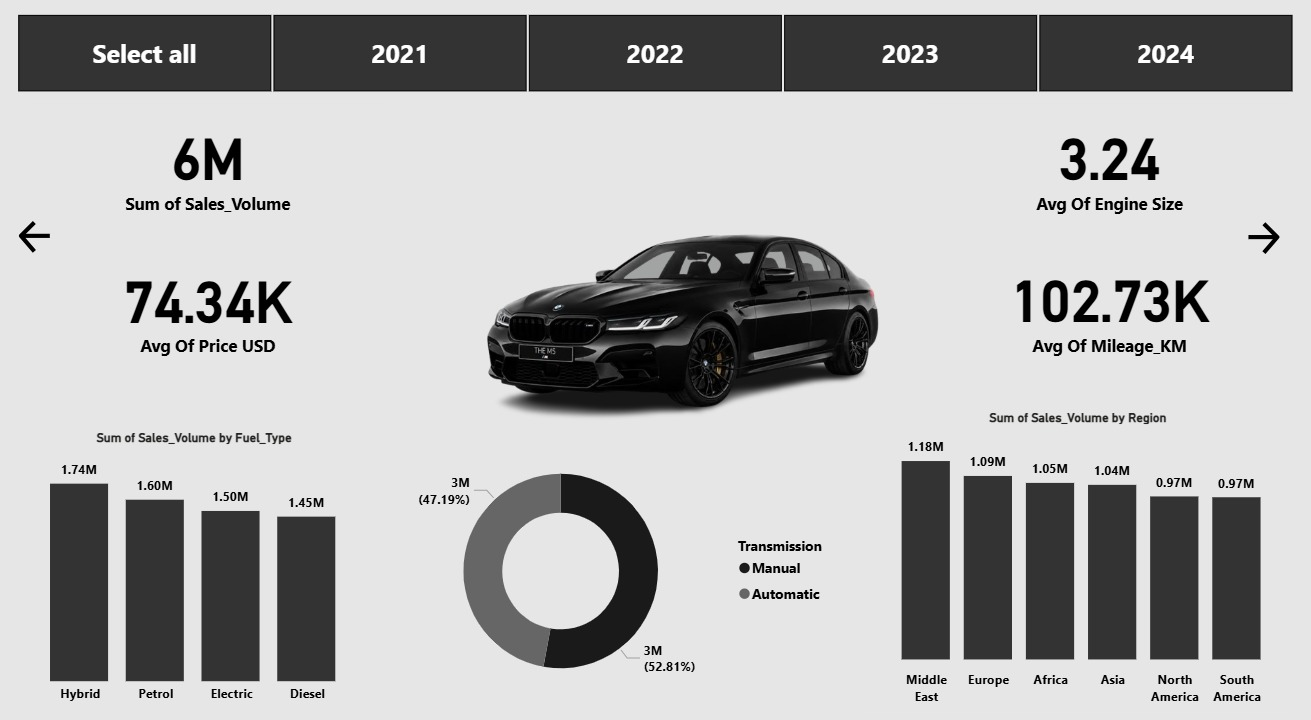

What the dashboard file says about the page in this screenshot:
{"tool":"powerbi","page":{"name":"M5","canvas":[1280,720],"ordinal":1},"visuals":[{"type":"image","box":[456,109.8,419.8,419.8],"z":0},{"type":"slicer","fields":{"Values":["BMW_Car_Sales_Classification.Year"]},"box":[0,21.7,1280,88.1],"z":1000},{"type":"donutChart","fields":{"Category":["BMW_Car_Sales_Classification.Transmission"],"Y":["Sum(BMW_Car_Sales_Classification.Sales_Volume)"]},"box":[374,429.5,456,272.7],"z":2000},{"type":"card","fields":{"Values":["Sum(BMW_Car_Sales_Classification.Sales_Volume)"]},"box":[36.2,114.6,346.2,115.8],"z":3000},{"type":"card","fields":{"Values":["BMW_Car_Sales_Classification.Avg Of Price"]},"box":[36.2,250.9,346.2,118.2],"z":4000},{"type":"card","fields":{"Values":["BMW_Car_Sales_Classification.Avg Of Engine Size"]},"box":[903.6,114.6,352.3,115.8],"z":5000},{"type":"card","fields":{"Values":["BMW_Car_Sales_Classification.Avg Of Mileage_KM"]},"box":[903.6,243.7,352.3,131.5],"z":6000},{"type":"columnChart","fields":{"Category":["BMW_Car_Sales_Classification.Region"],"Y":["Sum(BMW_Car_Sales_Classification.Sales_Volume)"]},"box":[842.1,410.2,413.8,292],"z":7000},{"type":"columnChart","fields":{"Category":["BMW_Car_Sales_Classification.Fuel_Type"],"Y":["Sum(BMW_Car_Sales_Classification.Sales_Volume)"]},"box":[22.9,429.5,346.2,272.7],"z":8000},{"type":"actionButton","box":[22.9,223.2,100.1,39.8],"z":9000},{"type":"actionButton","box":[1207.6,224.4,48.3,39.8],"z":10000}]}

Visuals, with their boxes in screenshot pixels (x1, y1, x2, y2), scaled from the page's 1280x720 canvas onto the 1311x720 screenshot:
image: region(467, 110, 897, 530)
slicer - BMW_Car_Sales_Classification.Year: region(0, 22, 1310, 110)
donutChart - BMW_Car_Sales_Classification.Transmission x Sum(BMW_Car_Sales_Classification.Sales_Volume): region(383, 430, 850, 702)
card - Sum(BMW_Car_Sales_Classification.Sales_Volume): region(37, 115, 392, 230)
card - BMW_Car_Sales_Classification.Avg Of Price: region(37, 251, 392, 369)
card - BMW_Car_Sales_Classification.Avg Of Engine Size: region(925, 115, 1286, 230)
card - BMW_Car_Sales_Classification.Avg Of Mileage_KM: region(925, 244, 1286, 375)
columnChart - BMW_Car_Sales_Classification.Region x Sum(BMW_Car_Sales_Classification.Sales_Volume): region(862, 410, 1286, 702)
columnChart - BMW_Car_Sales_Classification.Fuel_Type x Sum(BMW_Car_Sales_Classification.Sales_Volume): region(23, 430, 378, 702)
actionButton: region(23, 223, 126, 263)
actionButton: region(1237, 224, 1286, 264)
